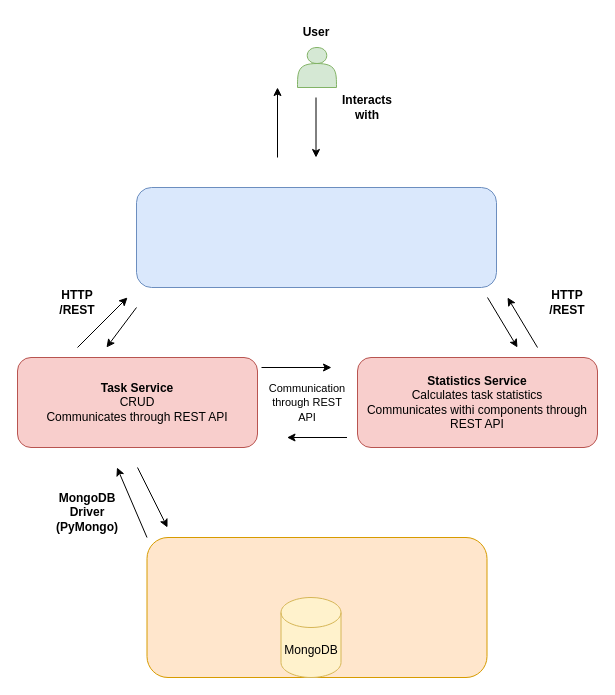
Some shapes in this 615 by 695 pixel diagram are drawn without their labels. The shapes that lost their labels are listed below. From the top down, each one's box as (x1, y1, x2, y2) in pixels, then its label:
(136, 186, 496, 288): Web Interface Displays tasks and statistics
(146, 536, 487, 678): Stores Task data Accessed only by Task Service
